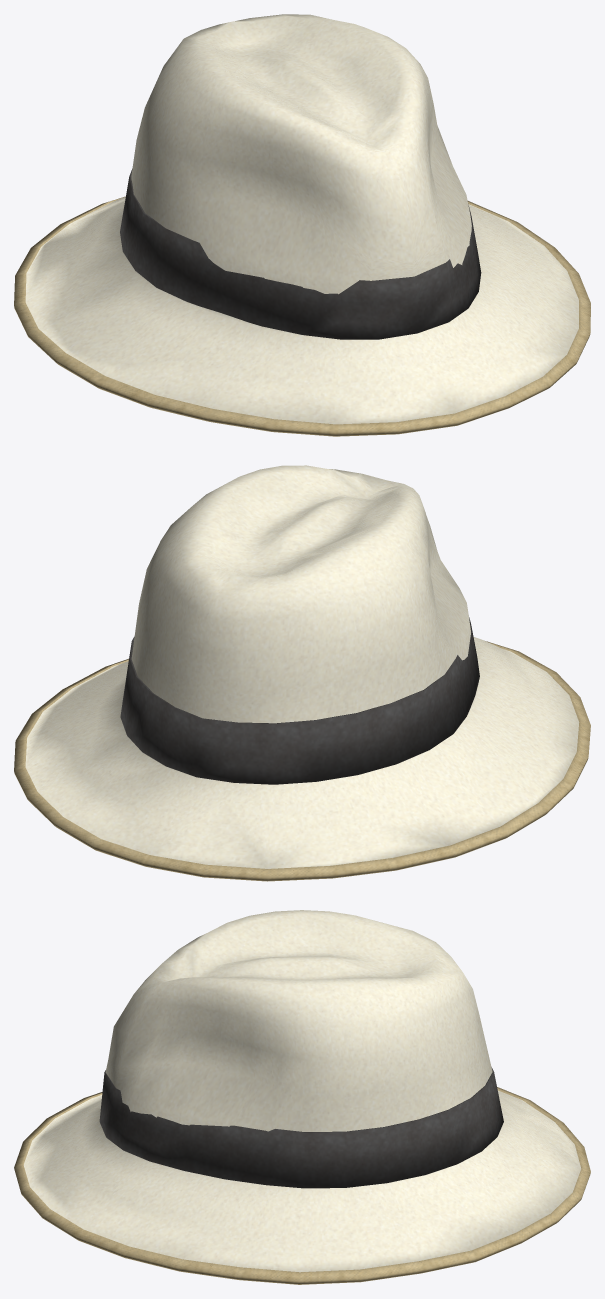
Rendered from FedoraWhitehat.glb.
The picture shows the model from 3 angles, top to bottom: view 1: azimuth 30°, elevation 25°; view 2: azimuth 150°, elevation 25°; view 3: azimuth 270°, elevation 25°; orthographic projection. The views are drawn at different scales.
Parts seen in each view (by area): view 1: Hat; view 2: Hat; view 3: Hat.
Boxes of the visible parts, left/top/right/bottom form: Hat: left=14, top=14, right=590, bottom=436; Hat: left=14, top=465, right=590, bottom=881; Hat: left=14, top=910, right=590, bottom=1284.
Bounding box in the file's own units: 0.3015 × 0.1462 × 0.3342.
Materials: 1 (1 with a texture image).
